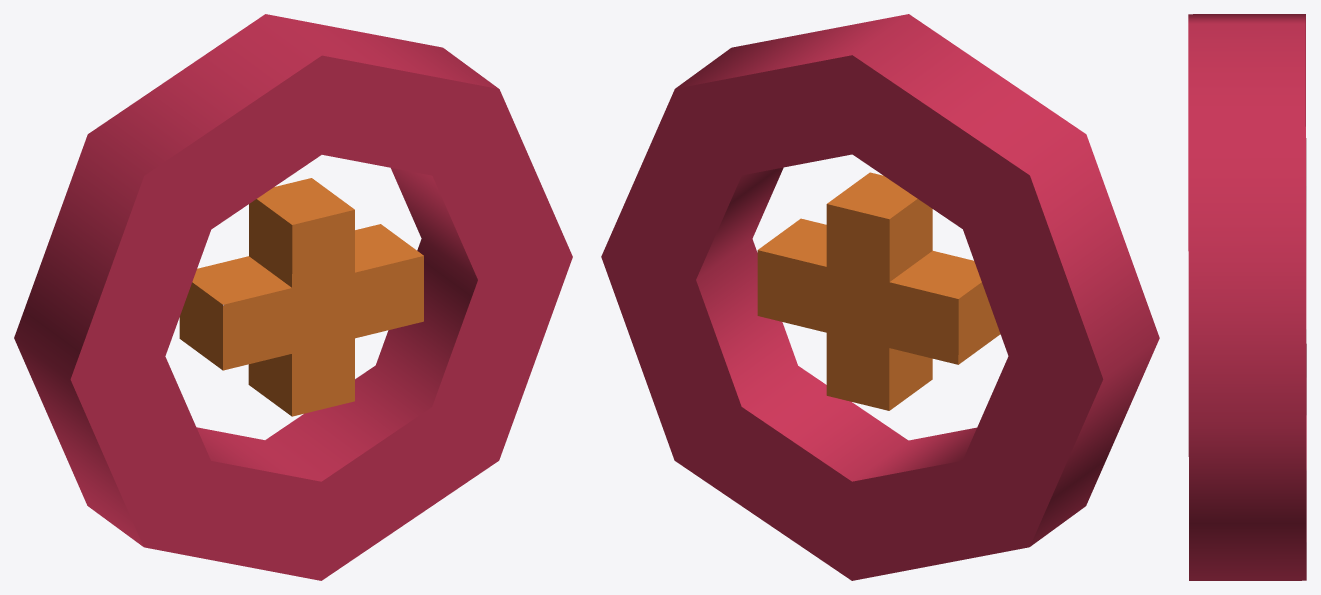
Rendered from powerup_marker.FBX.
3 renders of one model, left to right at view 1: azimuth 30°, elevation 25°; view 2: azimuth 150°, elevation 25°; view 3: azimuth 270°, elevation 25°, orthographic. The views are drawn at different scales.
Parts seen in each view (by area): view 1: Upgrade; view 2: Upgrade; view 3: Upgrade.
Part boxes in pixels (left/top/right/bottom): Upgrade: left=14, top=14, right=572, bottom=580; Upgrade: left=601, top=14, right=1159, bottom=580; Upgrade: left=1188, top=14, right=1306, bottom=580.
Bounding box in the file's own units: 83.5 × 83.53 × 16.4.
